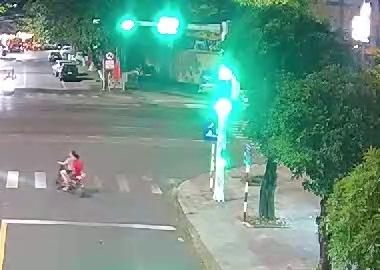green_light: (158, 10, 186, 39), (117, 11, 138, 36), (212, 96, 235, 116), (214, 64, 236, 80)
stop_line: (3, 216, 183, 231)
